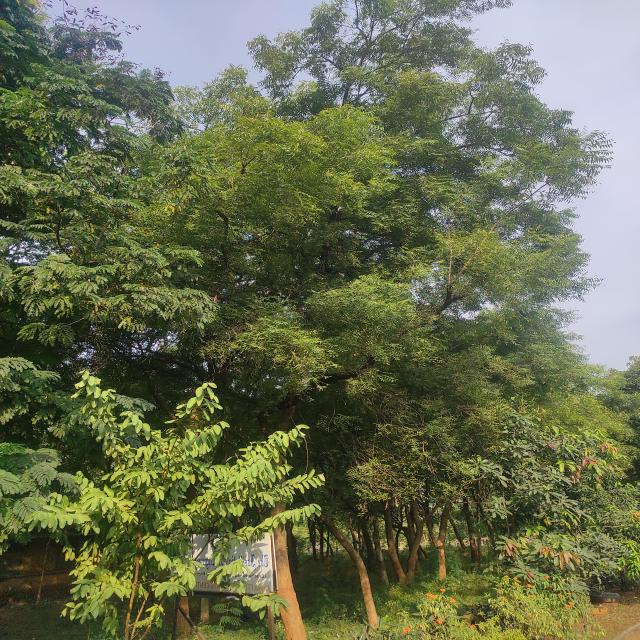Mango Tree: (489, 432, 640, 582)
Neem Tree: (126, 1, 589, 378)
